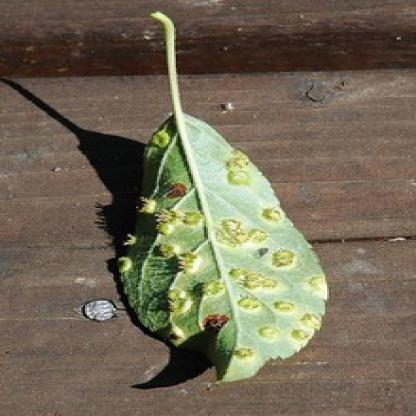Apple rust leaf: (117, 103, 338, 388)
